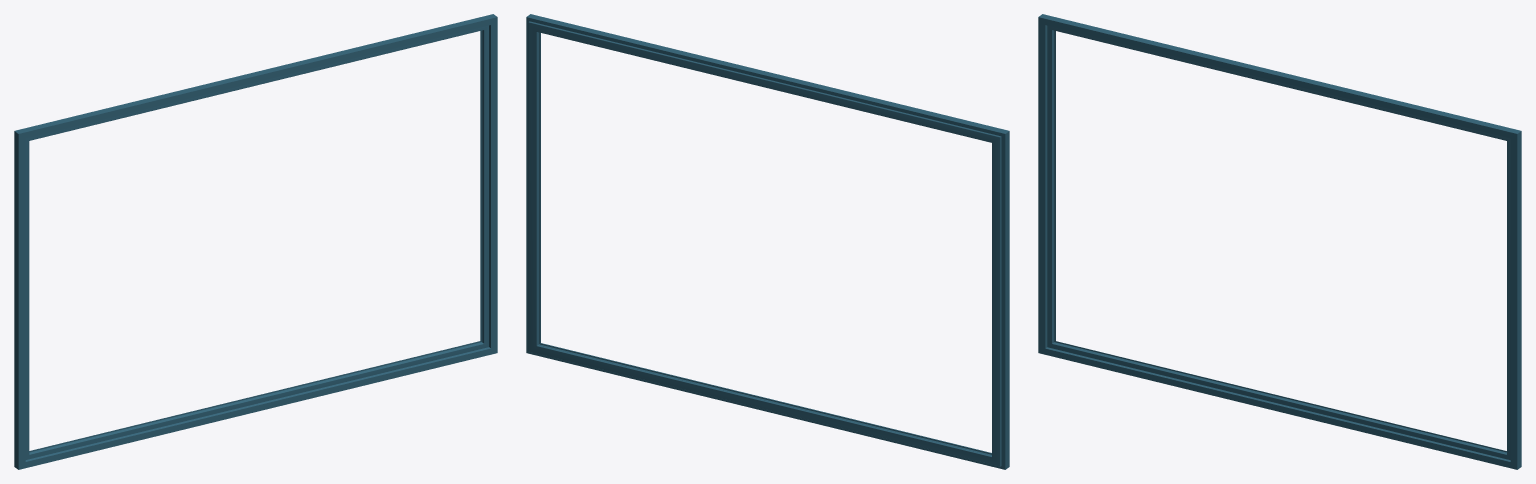
File: Windowframe_11.5.fbx
3 renders of one model, left to right at view 1: azimuth 30°, elevation 25°; view 2: azimuth 150°, elevation 25°; view 3: azimuth 330°, elevation 25°, orthographic.
Parts seen in each view (by area): view 1: Window; view 2: Window; view 3: Window.
Boxes of the visible parts, bbox=[...] form: Window: bbox=[14, 14, 497, 469]; Window: bbox=[526, 14, 1009, 469]; Window: bbox=[1038, 14, 1521, 469].
Bounding box in the file's own units: 450 × 301 × 9.08.
